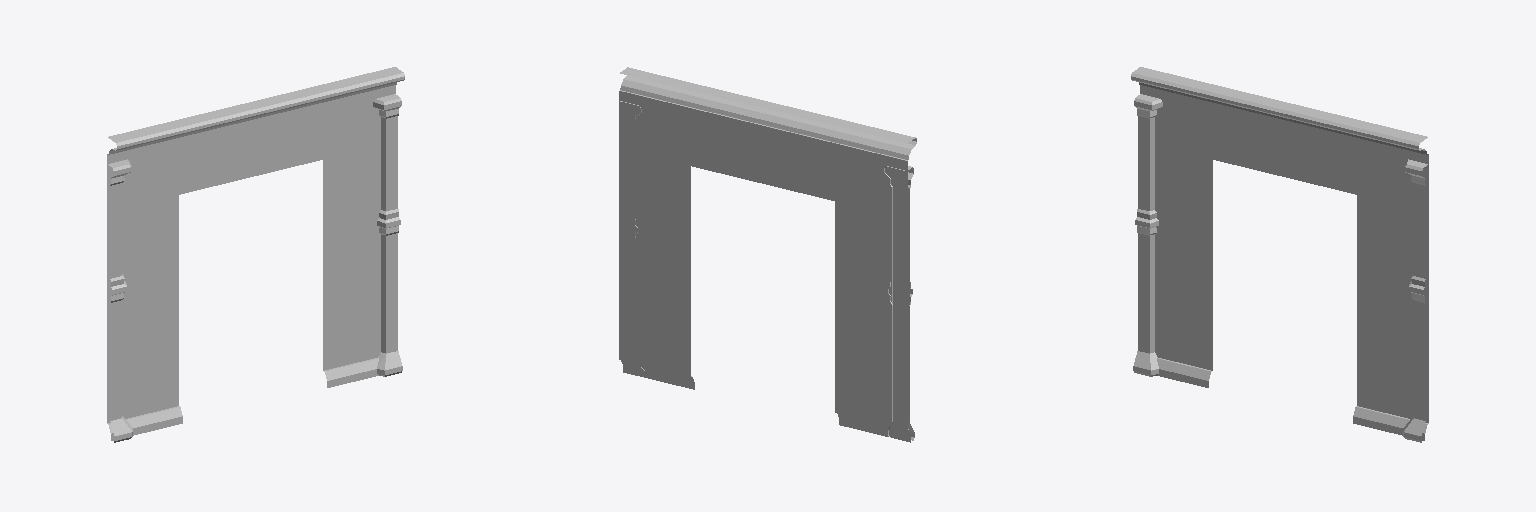
File: mansion2_doorway.obj
3 renders of one model, left to right at view 1: azimuth 30°, elevation 25°; view 2: azimuth 150°, elevation 25°; view 3: azimuth 330°, elevation 25°, orthographic.
Visible parts, largest first — view 1: door_way02; view 2: door_way02; view 3: door_way02.
Boxes of the visible parts, <box> form: door_way02: <box>107,67,404,442</box>; door_way02: <box>619,67,916,442</box>; door_way02: <box>1131,67,1428,442</box>.
Bounding box in the file's own units: 4 × 4 × 0.2475.